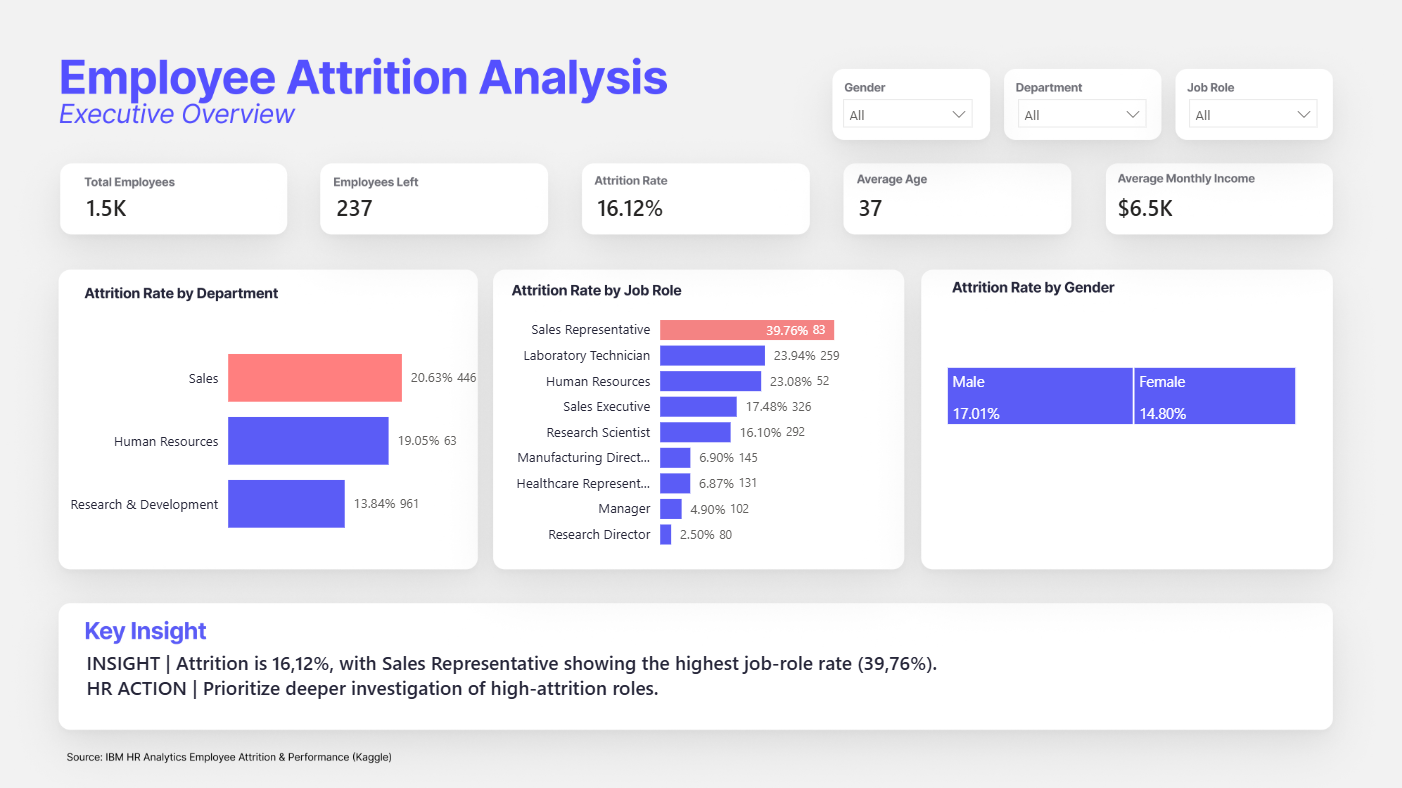

Layout of this report page (visuals, bound fields, positions):
{"tool":"powerbi","page":{"name":"Executive Overview","canvas":[1280,720],"ordinal":0},"visuals":[{"type":"image","box":[0,0,1280,720],"z":0},{"type":"cardVisual","fields":{"Data":["Planilha1.Employees_Left"]},"box":[282.4,122.9,175.6,128.8],"z":1000},{"type":"cardVisual","fields":{"Data":["Planilha1.Attrition_Rate"]},"box":[519.5,122.9,210.7,128.8],"z":2000},{"type":"cardVisual","fields":{"Data":["Planilha1.Average_Age"]},"box":[756.6,122.9,210.7,128.8],"z":3000},{"type":"cardVisual","fields":{"Data":["Planilha1.Average_Monthly_Income"]},"box":[992.2,122.9,245.9,128.8],"z":4000},{"type":"cardVisual","fields":{"Data":["Planilha1.Total Employees"]},"box":[54.1,122.9,210.7,128.8],"z":5000},{"type":"clusteredBarChart","fields":{"Category":["Planilha1.JobRole"],"Y":["Planilha1.Attrition_Rate"]},"box":[458,273.7,348.3,231.2],"z":6000},{"type":"treemap","fields":{"Group":["Planilha1.Gender"],"Values":["Planilha1.Attrition_Rate"]},"box":[862,333.7,317.6,52.7],"z":7000},{"type":"slicer","fields":{"Values":["Planilha1.Gender"]},"box":[756.6,80.5,137.6,42.4],"z":8000},{"type":"slicer","fields":{"Values":["Planilha1.Department"]},"box":[916,80.3,136.7,42.7],"z":9000},{"type":"slicer","fields":{"Values":["Planilha1.JobRole"]},"box":[1071.5,80.3,136.7,42.7],"z":10000},{"type":"cardVisual","fields":{"Data":["Planilha1.Executive_Insight"]},"box":[54.1,551.7,1135.6,121.5],"z":11000},{"type":"barChart","fields":{"Category":["Planilha1.Department"],"Y":["Planilha1.Attrition_Rate"]},"box":[54.3,291.4,382.9,214.3],"z":12000}]}

Visuals, with their boxes in screenshot pixels (x1, y1, x2, y2), scaled from the page's 1280x720 canvas onto the 1402x788 screenshot:
image: box=[0, 0, 1401, 787]
cardVisual - Planilha1.Employees_Left: box=[309, 135, 502, 275]
cardVisual - Planilha1.Attrition_Rate: box=[569, 135, 800, 275]
cardVisual - Planilha1.Average_Age: box=[829, 135, 1059, 275]
cardVisual - Planilha1.Average_Monthly_Income: box=[1087, 135, 1356, 275]
cardVisual - Planilha1.Total Employees: box=[59, 135, 290, 275]
clusteredBarChart - Planilha1.JobRole x Planilha1.Attrition_Rate: box=[502, 300, 883, 553]
treemap - Planilha1.Gender x Planilha1.Attrition_Rate: box=[944, 365, 1292, 423]
slicer - Planilha1.Gender: box=[829, 88, 979, 135]
slicer - Planilha1.Department: box=[1003, 88, 1153, 135]
slicer - Planilha1.JobRole: box=[1174, 88, 1323, 135]
cardVisual - Planilha1.Executive_Insight: box=[59, 604, 1303, 737]
barChart - Planilha1.Department x Planilha1.Attrition_Rate: box=[59, 319, 479, 553]
